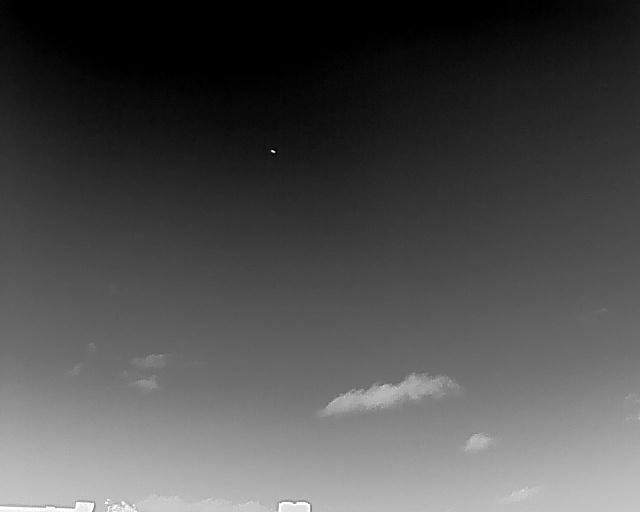fpv-drone: (270, 148, 277, 155)
